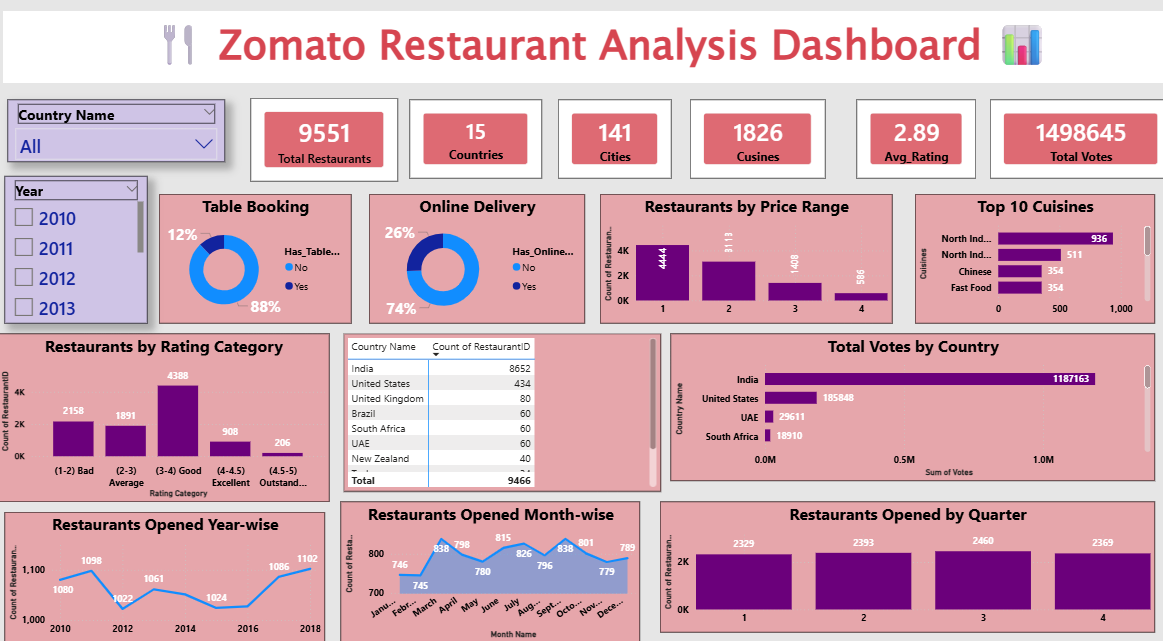

The page's visual inventory and layout, read from the dashboard file:
{"tool":"powerbi","page":{"name":"Page 1","canvas":[1600,900],"ordinal":0},"visuals":[{"type":"cardVisual","fields":{"Data":["Merge1.Countries"]},"box":[550.7,137.2,177,105.4],"z":0},{"type":"cardVisual","fields":{"Data":["Merge1.Avg_Rating"]},"box":[1145.2,137.2,159.1,105.4],"z":1000},{"type":"cardVisual","fields":{"Data":["Merge1.Cities"]},"box":[747.6,137.2,151.1,105.4],"z":2000},{"type":"cardVisual","fields":{"Data":["Merge1.TCuisines"]},"box":[924.5,137.2,180.9,105.4],"z":3000},{"type":"donutChart","title":"Online Delivery","fields":{"Category":["Merge1.Has_Online_delivery"],"Y":["CountNonNull(Merge1.RestaurantID)"]},"box":[495.1,264.4,288.3,173],"z":4000},{"type":"slicer","fields":{"Values":["Merge1.Country Name"]},"box":[13.9,137.2,290.3,83.5],"z":5000},{"type":"slicer","fields":{"Values":["Merge1.Year"]},"box":[9.9,240.6,190.9,196.8],"z":6000},{"type":"barChart","title":"Top 10 Cuisines","fields":{"Category":["Merge1.Cuisines"],"Y":["CountNonNull(Merge1.RestaurantID)"]},"box":[1224.8,264.4,320.1,173],"z":7000},{"type":"donutChart","title":"Table Booking","fields":{"Category":["Merge1.Has_Table_booking"],"Y":["CountNonNull(Merge1.RestaurantID)"]},"box":[216.7,264.4,256.5,173],"z":8000},{"type":"lineChart","title":"Restaurants Opened Year-wise","fields":{"Category":["Merge1.Year"],"Y":["CountNonNull(Merge1.RestaurantID)"]},"box":[9.9,687.9,427.5,175],"z":9000},{"type":"areaChart","title":"Restaurants Opened Month-wise","fields":{"Category":["Merge1.Month Name"],"Y":["CountNonNull(Merge1.RestaurantID)"]},"box":[457.3,674,399.6,188.9],"z":10000},{"type":"cardVisual","fields":{"Data":["Merge1.Total Votes"]},"box":[1324.2,137.2,242.6,105.4],"z":11000},{"type":"columnChart","title":"Restaurants by Rating Category","fields":{"Category":["Merge1.Rating Category"],"Y":["CountNonNull(Merge1.RestaurantID)"]},"box":[0,449.3,443.4,224.7],"z":12000},{"type":"columnChart","title":"Restaurants by Price Range","fields":{"Category":["Merge1.Price_range"],"Y":["CountNonNull(Merge1.RestaurantID)"]},"box":[803.3,264.4,389.7,173],"z":13000},{"type":"cardVisual","fields":{"Data":["Merge1.Total Restaurants"]},"box":[338,135.2,196.8,111.3],"z":14000},{"type":"clusteredColumnChart","title":"Restaurants Opened by Quarter","fields":{"Category":["Merge1.Quarter"],"Y":["CountNonNull(Merge1.RestaurantID)"]},"box":[884.8,674,660.1,175],"z":16000},{"type":"clusteredColumnChart","title":"Top 10 Countries by Restaurant Count","fields":{"Category":["Merge1.Country Name"],"Y":["CountNonNull(Merge1.RestaurantID)"]},"box":[461.3,449.3,423.5,210.8],"z":17000},{"type":"clusteredBarChart","title":"Total Votes by Country","fields":{"Category":["Merge1.Country Name"],"Y":["Sum(Merge1.Votes)"]},"box":[898.7,449.3,646.2,196.8],"z":18000},{"type":"textbox","title":"Zomato Restaurant Analysis Dashboard","box":[7.6,20.3,1592.4,96.2],"z":19000}]}

Visuals, with their boxes in screenshot pixels (x1, y1, x2, y2), scaled from the page's 1600x900 canvas onto the 1163x641 screenshot:
cardVisual - Merge1.Countries: 400, 98, 529, 173
cardVisual - Merge1.Avg_Rating: 832, 98, 948, 173
cardVisual - Merge1.Cities: 543, 98, 653, 173
cardVisual - Merge1.TCuisines: 672, 98, 803, 173
"Online Delivery" donutChart: 360, 188, 569, 312
slicer - Merge1.Country Name: 10, 98, 221, 157
slicer - Merge1.Year: 7, 171, 146, 312
"Top 10 Cuisines" barChart: 890, 188, 1123, 312
"Table Booking" donutChart: 158, 188, 344, 312
"Restaurants Opened Year-wise" lineChart: 7, 490, 318, 615
"Restaurants Opened Month-wise" areaChart: 332, 480, 623, 615
cardVisual - Merge1.Total Votes: 963, 98, 1139, 173
"Restaurants by Rating Category" columnChart: 0, 320, 322, 480
"Restaurants by Price Range" columnChart: 584, 188, 867, 312
cardVisual - Merge1.Total Restaurants: 246, 96, 389, 176
"Restaurants Opened by Quarter" clusteredColumnChart: 643, 480, 1123, 605
"Top 10 Countries by Restaurant Count" clusteredColumnChart: 335, 320, 643, 470
"Total Votes by Country" clusteredBarChart: 653, 320, 1123, 460
"Zomato Restaurant Analysis Dashboard" textbox: 6, 14, 1162, 83
